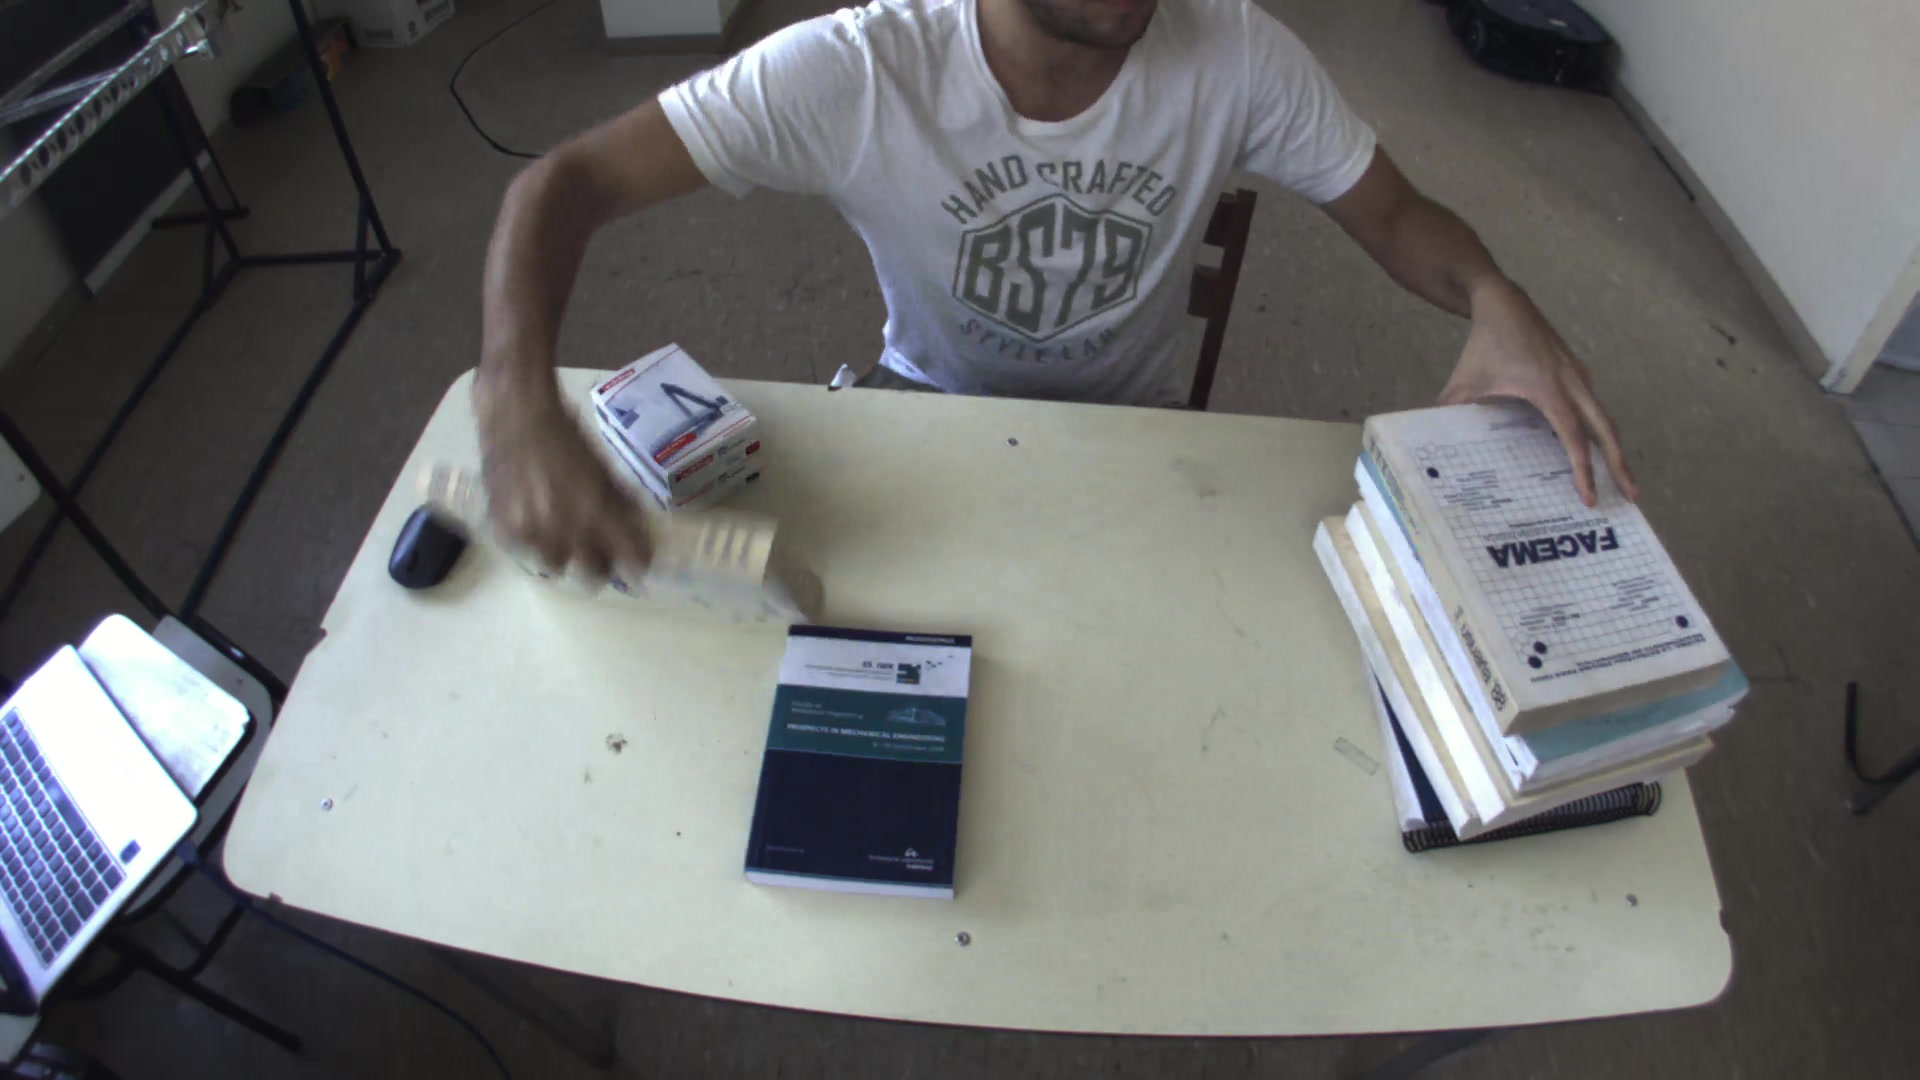hand: (1437, 309, 1667, 518), (471, 368, 644, 588)
